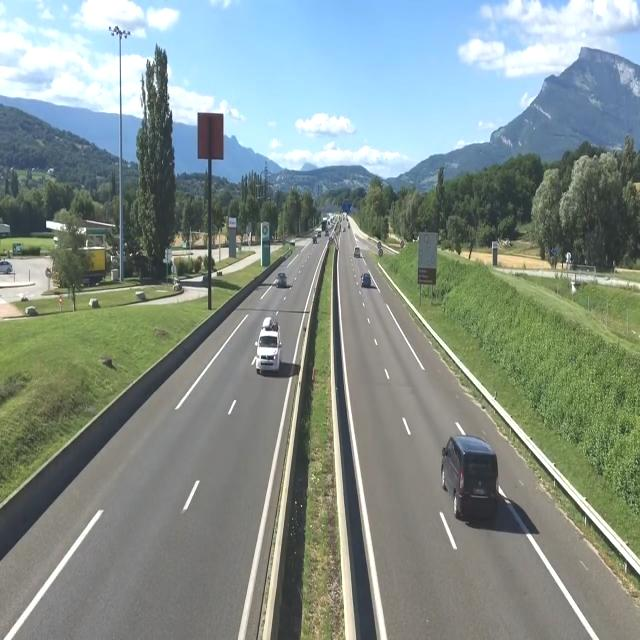Car: (0, 260, 13, 275), (277, 272, 288, 287), (361, 274, 372, 288), (354, 246, 361, 258)
Van: (440, 436, 498, 521), (254, 317, 282, 375)
